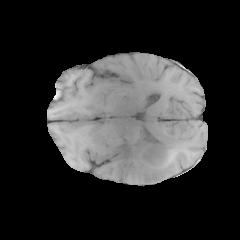glioma: (111, 136, 180, 184)
